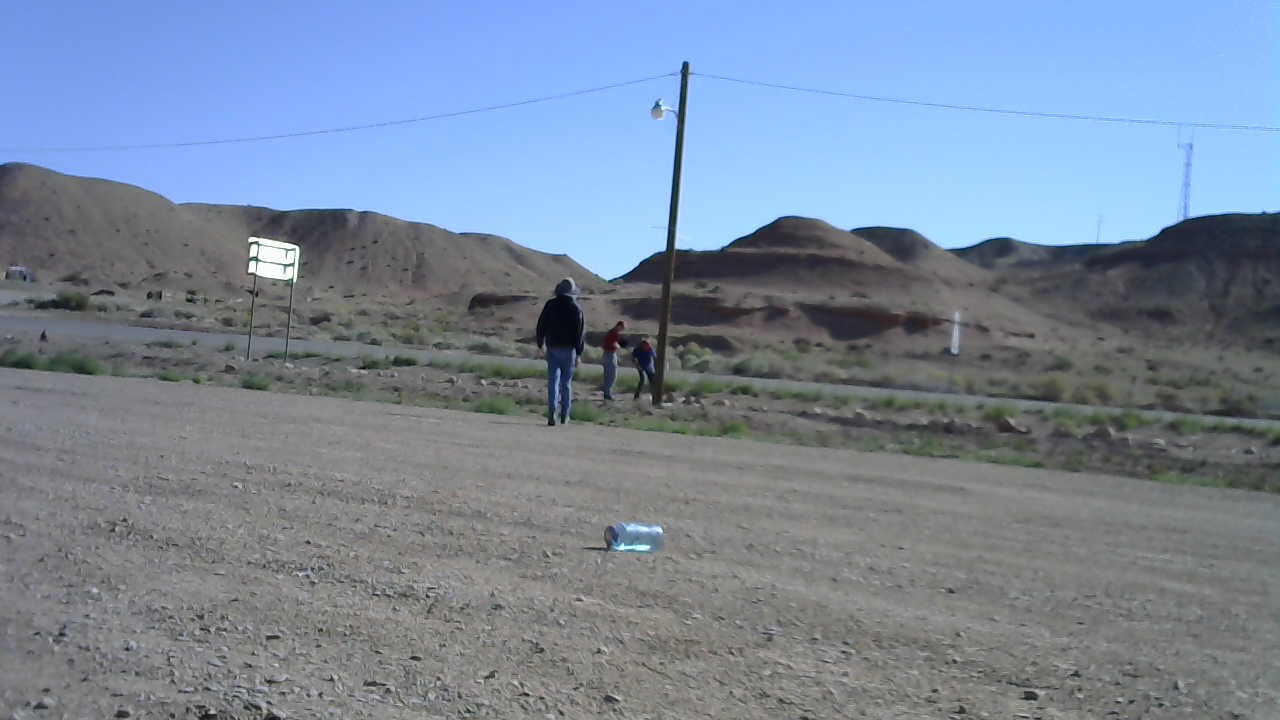bottle: (594, 518, 667, 555)
